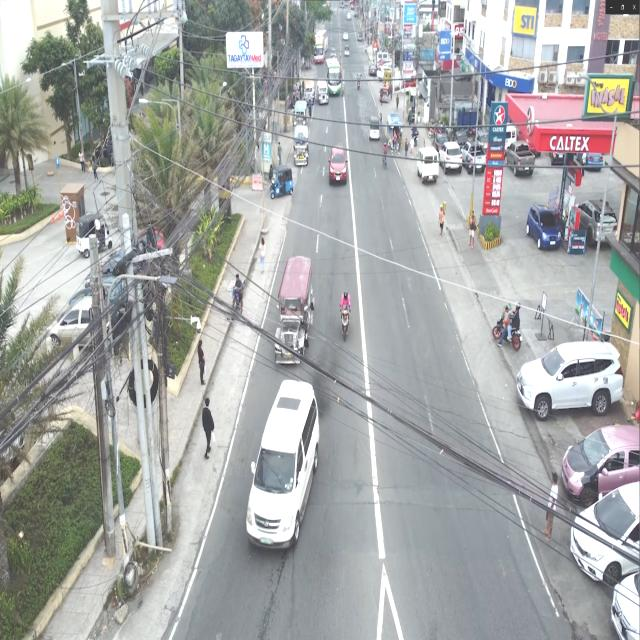bicycle: (226, 266, 246, 318), (378, 140, 391, 170)
bus: (323, 56, 342, 100), (314, 27, 330, 53), (312, 35, 326, 63)
car: (241, 375, 324, 561), (516, 334, 633, 424), (569, 479, 640, 588), (557, 416, 640, 506), (270, 250, 318, 370), (40, 287, 120, 357), (568, 190, 620, 257), (68, 266, 144, 311), (522, 198, 564, 258), (607, 571, 640, 640), (501, 136, 537, 179), (326, 140, 352, 190), (458, 138, 489, 179), (437, 139, 465, 180), (414, 144, 441, 186), (291, 124, 310, 170), (386, 110, 404, 158), (292, 98, 311, 130), (316, 76, 332, 106), (302, 73, 316, 107), (376, 62, 394, 82), (376, 49, 396, 67), (366, 61, 377, 79), (328, 46, 338, 58), (342, 29, 350, 43), (346, 11, 352, 22), (340, 0, 344, 7)
motorcycle: (486, 293, 526, 357), (334, 282, 354, 348), (434, 116, 449, 140), (408, 120, 419, 148), (424, 119, 438, 140), (466, 123, 481, 137), (354, 70, 363, 90)
person: (538, 464, 560, 546), (197, 392, 220, 465), (194, 337, 210, 387), (466, 206, 478, 252), (254, 234, 268, 271), (436, 199, 448, 242), (88, 151, 100, 185), (75, 144, 86, 172), (395, 129, 404, 159), (406, 134, 416, 160), (276, 140, 284, 167), (306, 97, 314, 118), (392, 129, 398, 155), (378, 109, 384, 133), (402, 136, 408, 159), (379, 86, 384, 108), (388, 82, 394, 100), (301, 80, 307, 96), (396, 92, 400, 110), (298, 86, 302, 102)
